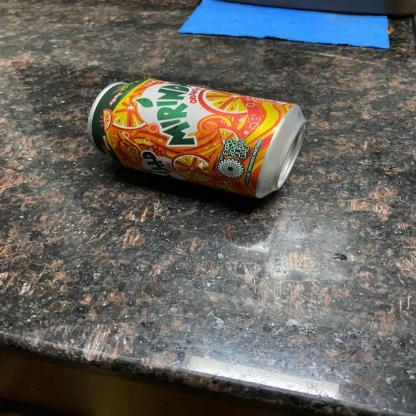Can: (82, 76, 308, 204)
